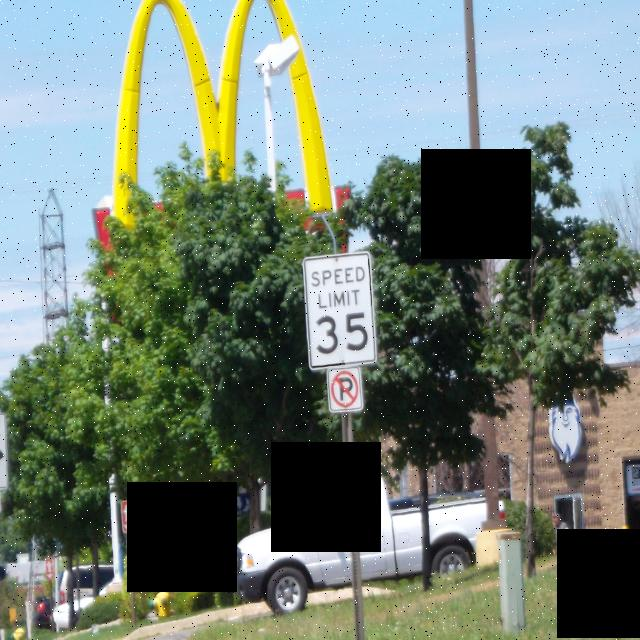regulatory: (301, 248, 378, 372), (322, 366, 366, 421)
